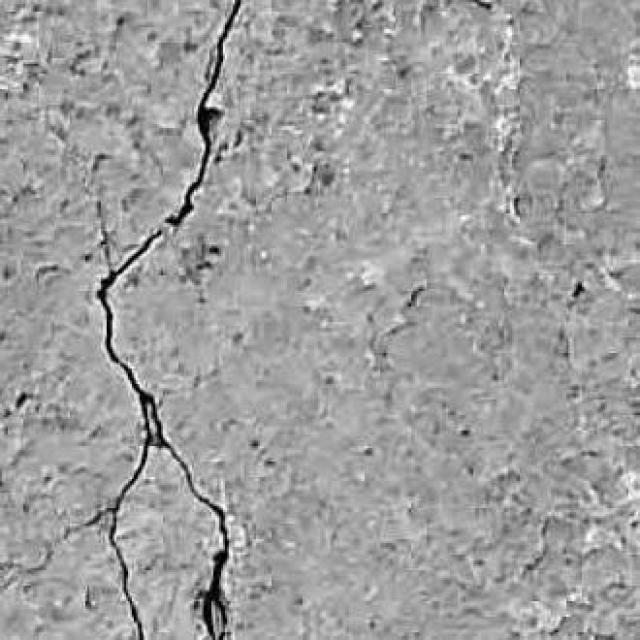crack: (84, 225, 230, 639), (165, 0, 242, 226)
